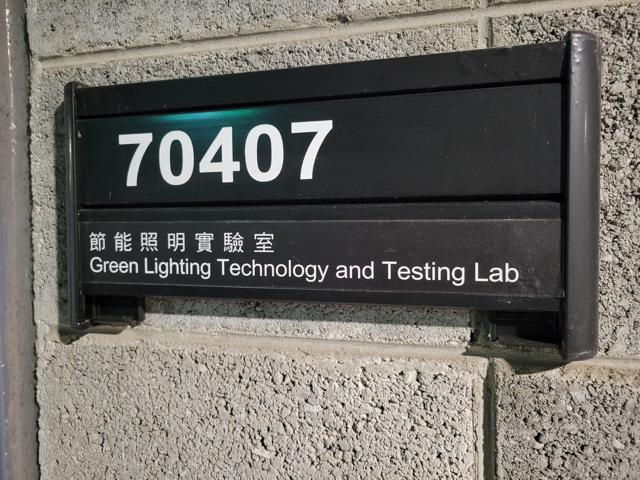doorplate: (47, 19, 612, 377)
